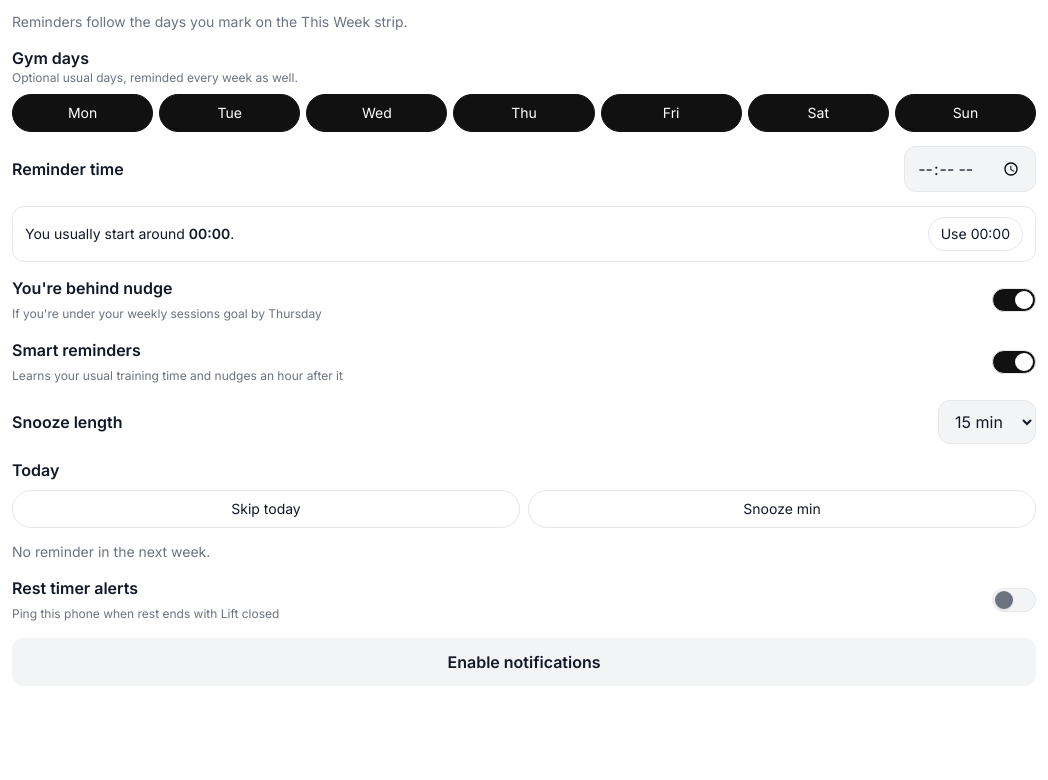
Test: ReminderSettings › Enable notifications explains push is not available yet
The width and height of the screenshot is (1048, 780).
Click the button "Enable notifications" at point(524, 662), box [12,638,1036,686]
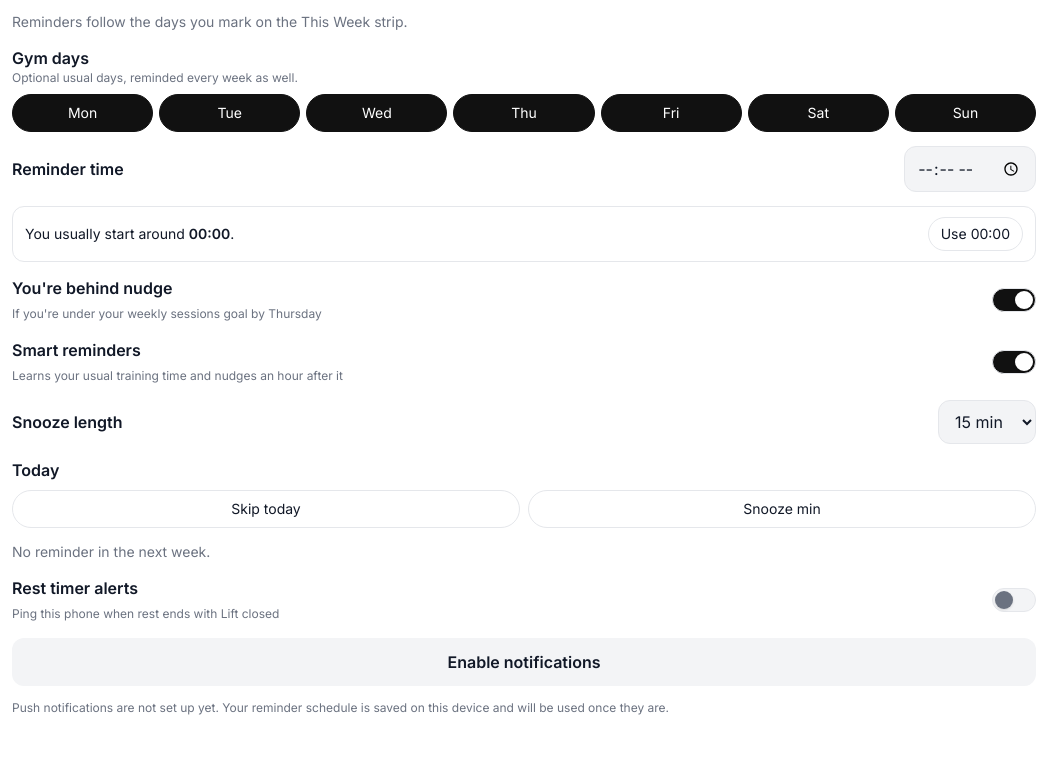
Expected: the message shows "Push notifications are not set up yet. Your reminder schedule is saved on this device and will be used once they are.", [12,700,669,715]
